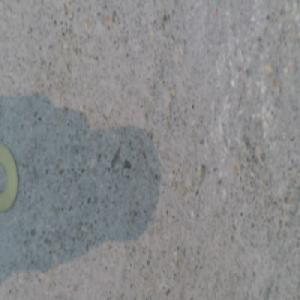Washer: (1, 145, 23, 210)
